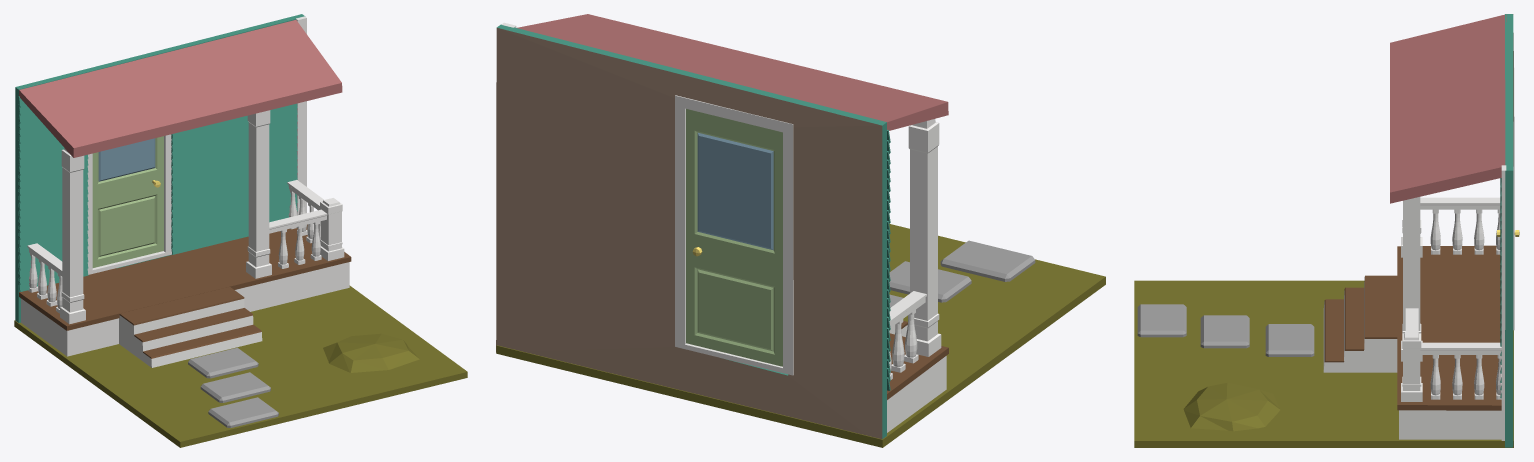
3 renders of one model, left to right at view 1: azimuth 30°, elevation 25°; view 2: azimuth 150°, elevation 25°; view 3: azimuth 270°, elevation 25°, orthographic. The views are drawn at different scales.
Parts seen in each view (by area): view 1: Base_6; view 2: Base_6; view 3: Base_6.
Part boxes in pixels (x1=…): Base_6: x1=14, y1=14, x2=467, y2=447; Base_6: x1=496, y1=14, x2=1105, y2=447; Base_6: x1=1134, y1=14, x2=1519, y2=447.
Size of the model in its own units: 501 by 508 by 403.
